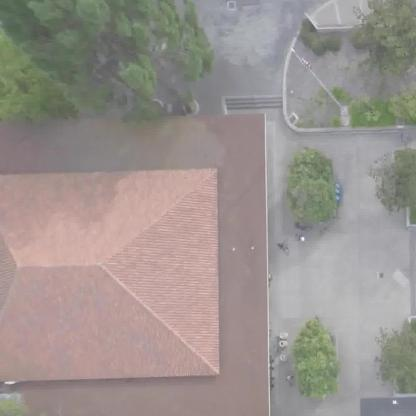Pedestrian: (278, 240, 293, 260), (294, 231, 305, 245)
